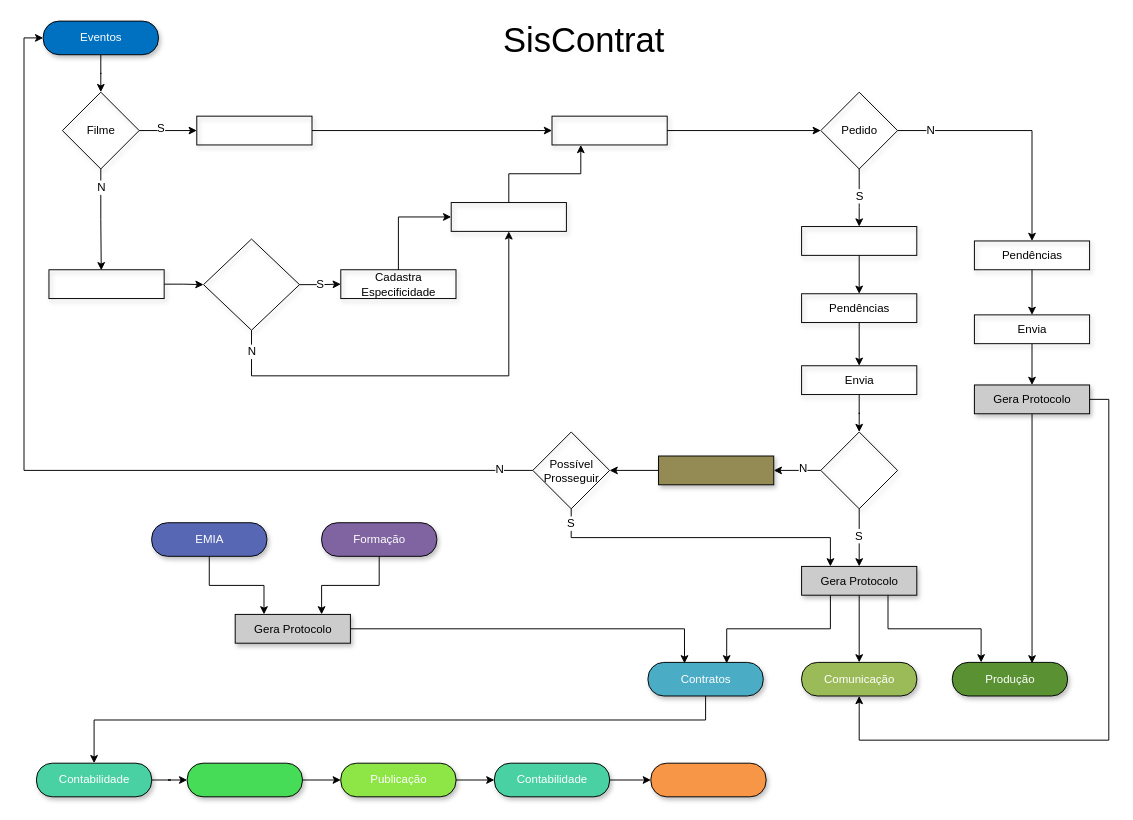
This 1133x820 diagram has some shape labels left out. The centre of each missing label's shape, as x and y in pixels:
Cadastra Atração: (107,285)
Cadastra Filme: (255,131)
Cadastra Pedido: (860,242)
Especificidades: (252,285)
Está no prazo: (859,471)
Gestão de Prazos: (717,471)
Jurídico: (245,781)
Ocorrências: (610,131)
Pagamentos: (709,781)
Produtor: (509,218)
